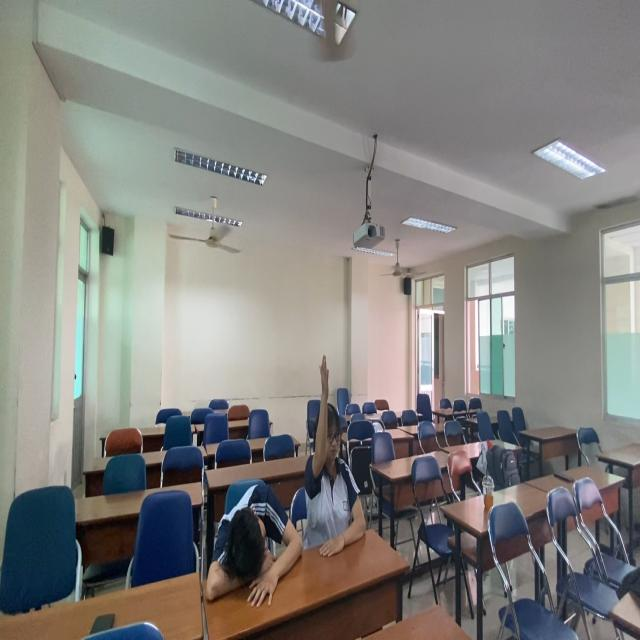raise_hand: (309, 351, 369, 569)
sleep: (198, 470, 305, 620)
